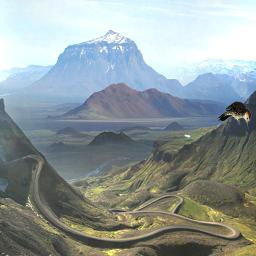Woodpecker: (216, 101, 254, 129)
